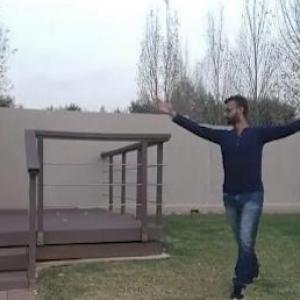takeoff: (151, 92, 299, 299)
